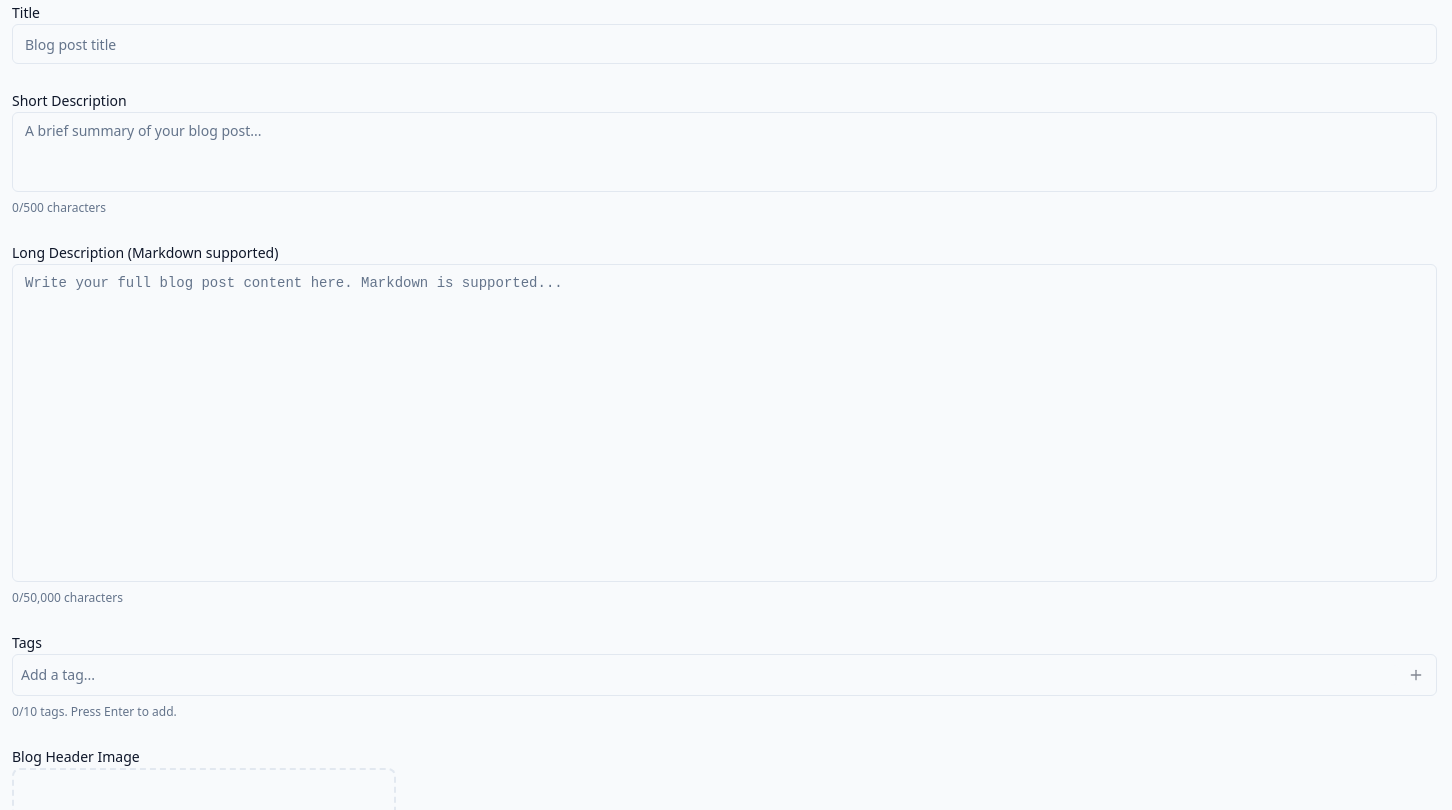
BlogForm › requires an image for a new blog
The width and height of the screenshot is (1452, 810).
Type "Title" into the field with placeholder "Blog post title" at (724, 44), box [12,24,1437,64]
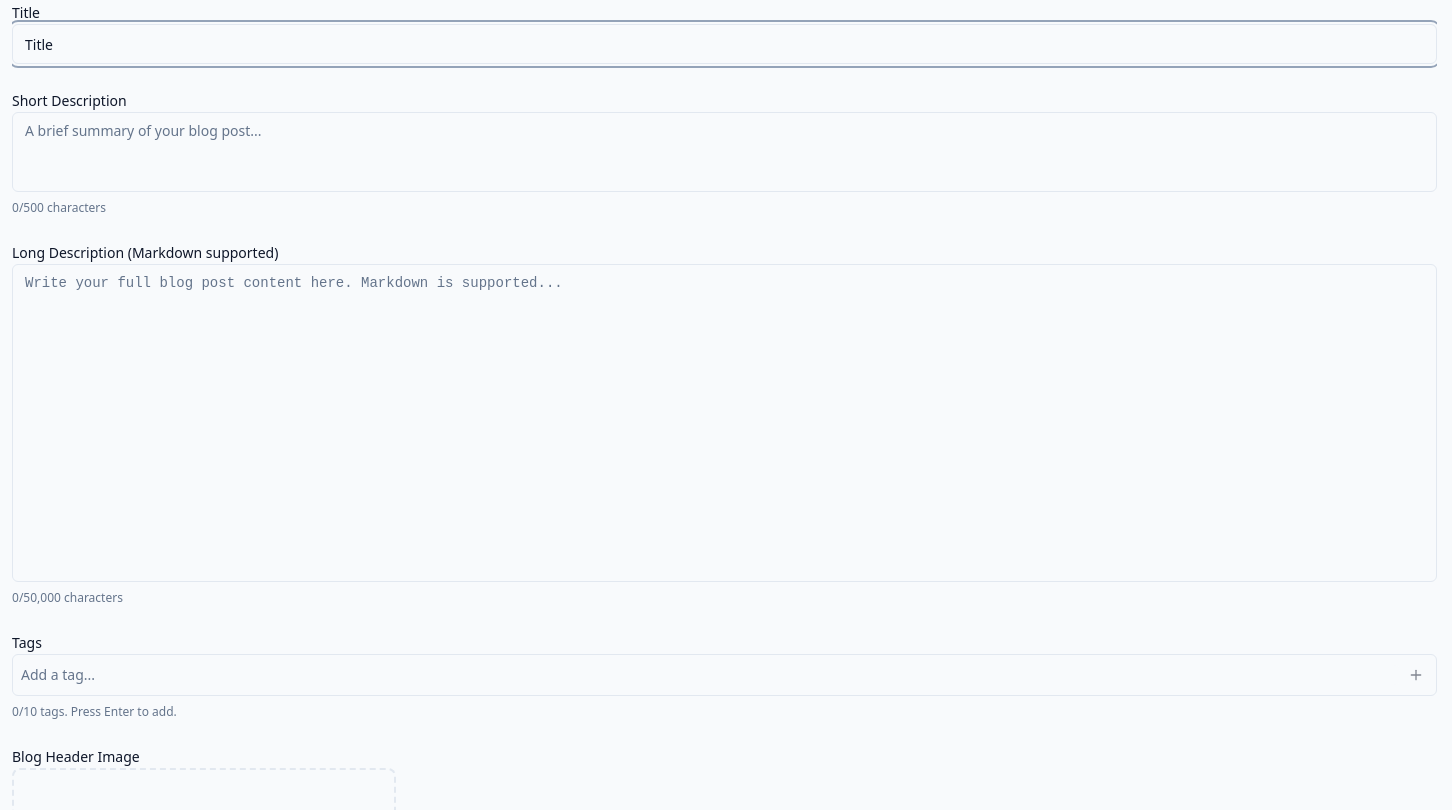
Type "Short" into the text box with placeholder "A brief summary of your blog post..." at (724, 152), box [12,112,1437,192]
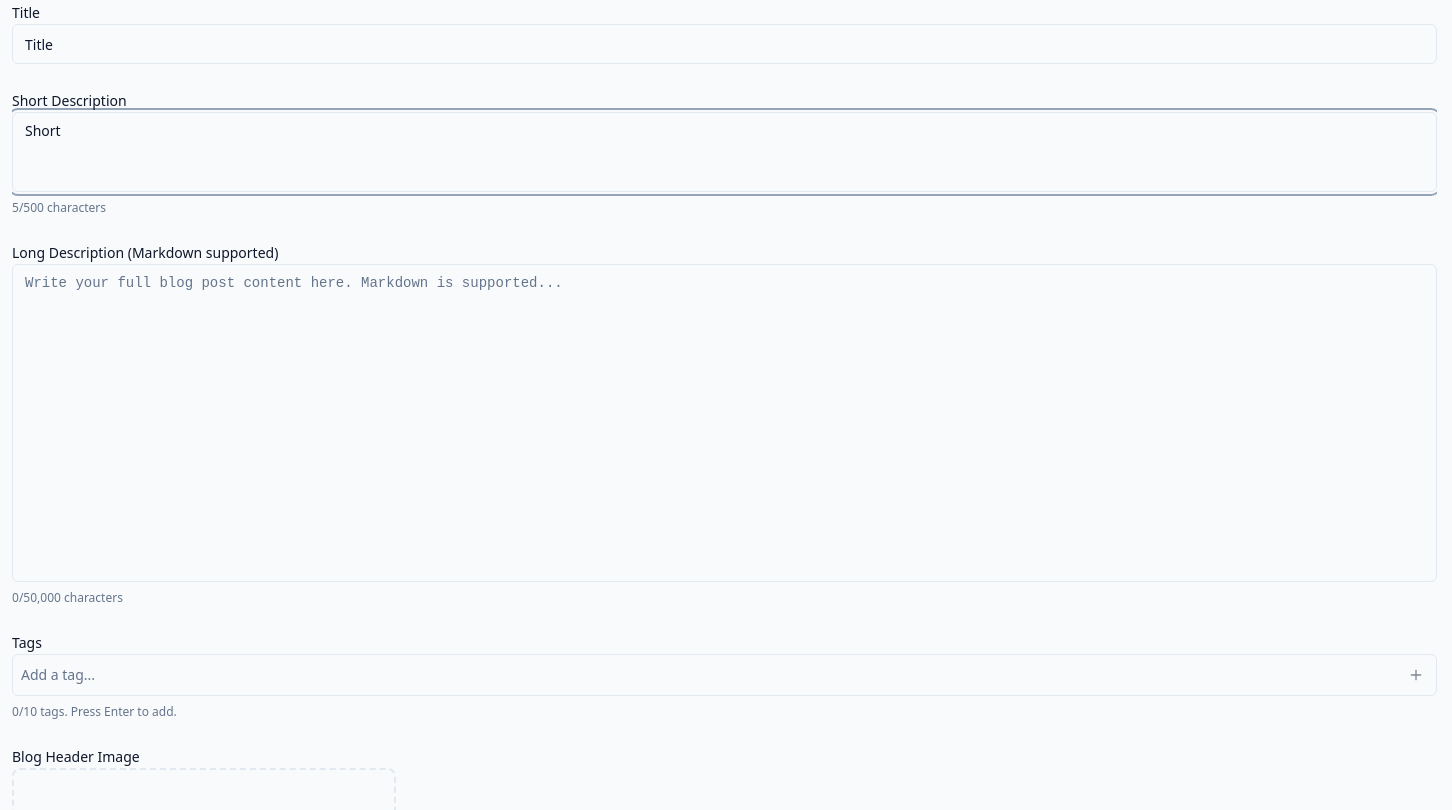
Type "Long" into the text box with placeholder "full blog post" at (724, 423), box [12,264,1437,582]
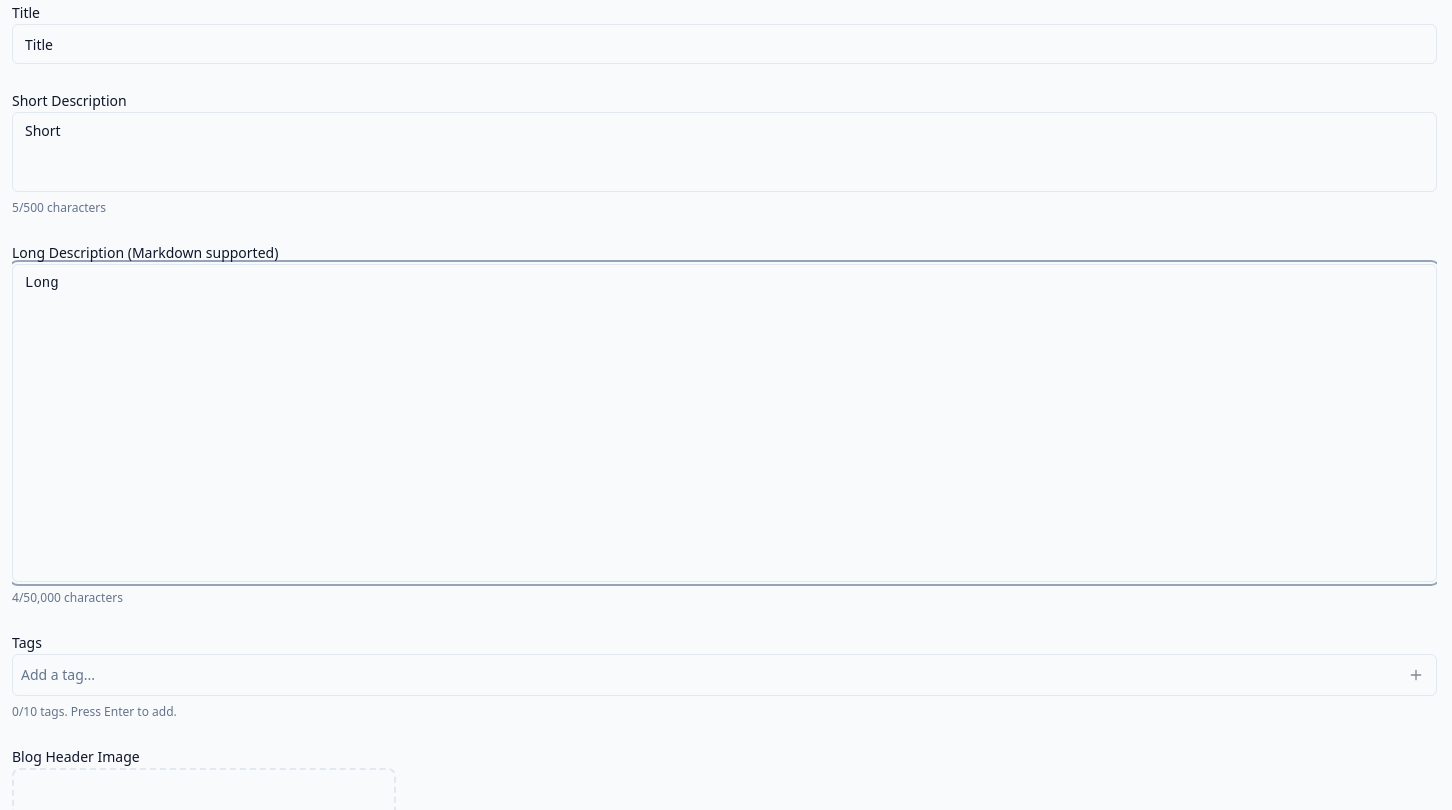
Type "tag" into the field with placeholder "Add a tag..." at (711, 675), box [21,665,1400,685]
Then press Enter
(page scrolled)
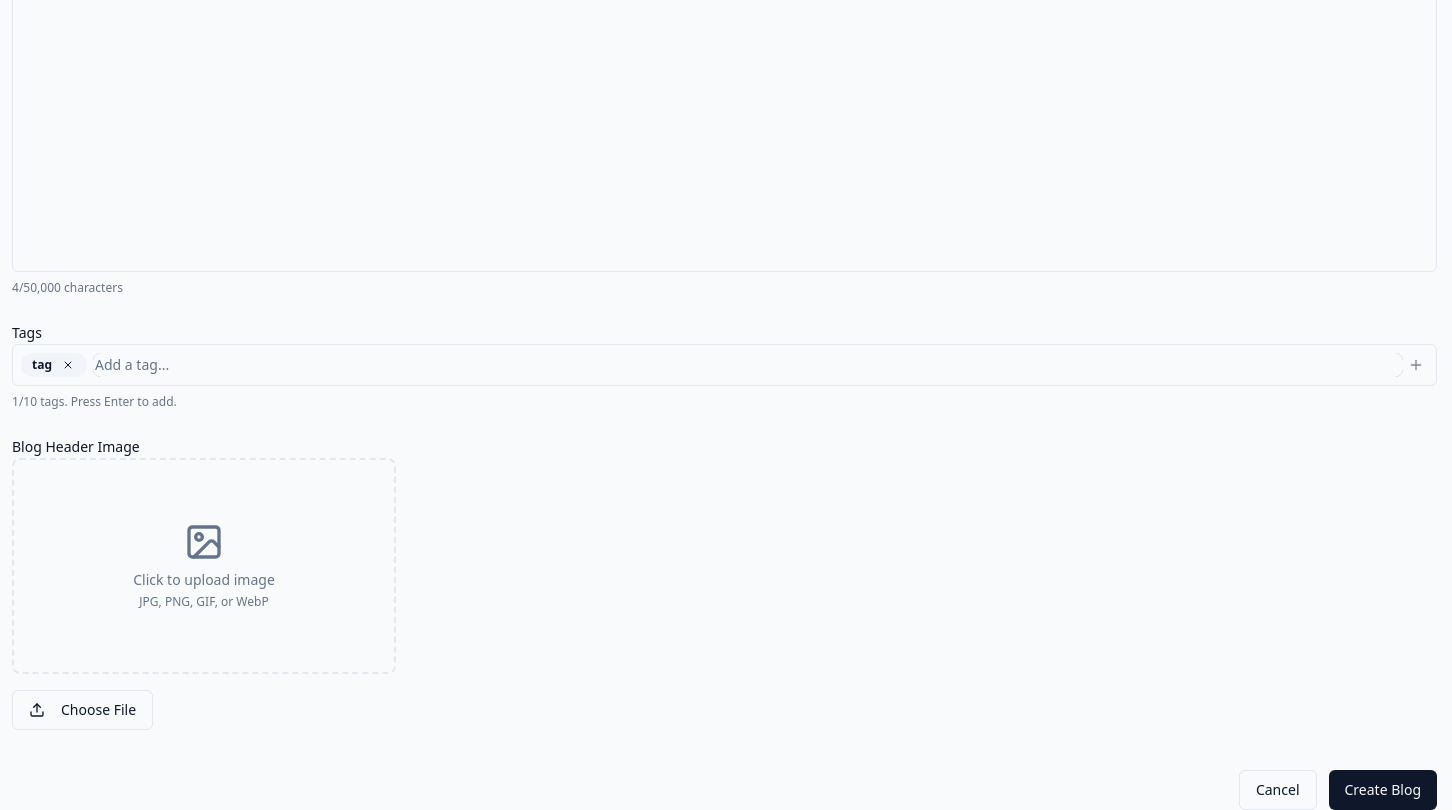
Click the button "Create Blog" at (1383, 790), box [1328,770,1437,809]
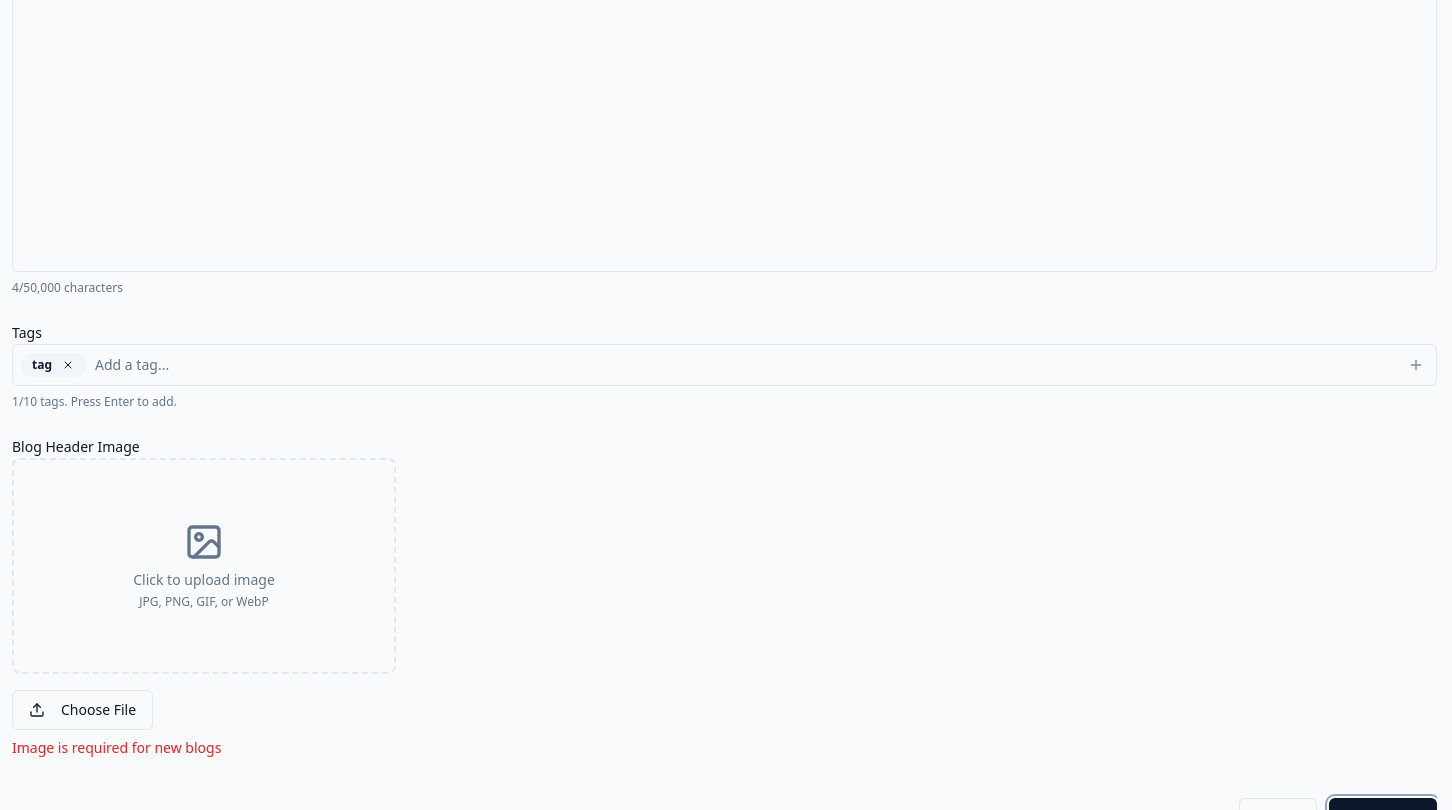
Expected: the text "Image is required for new blogs" is shown, [12,738,221,757]
